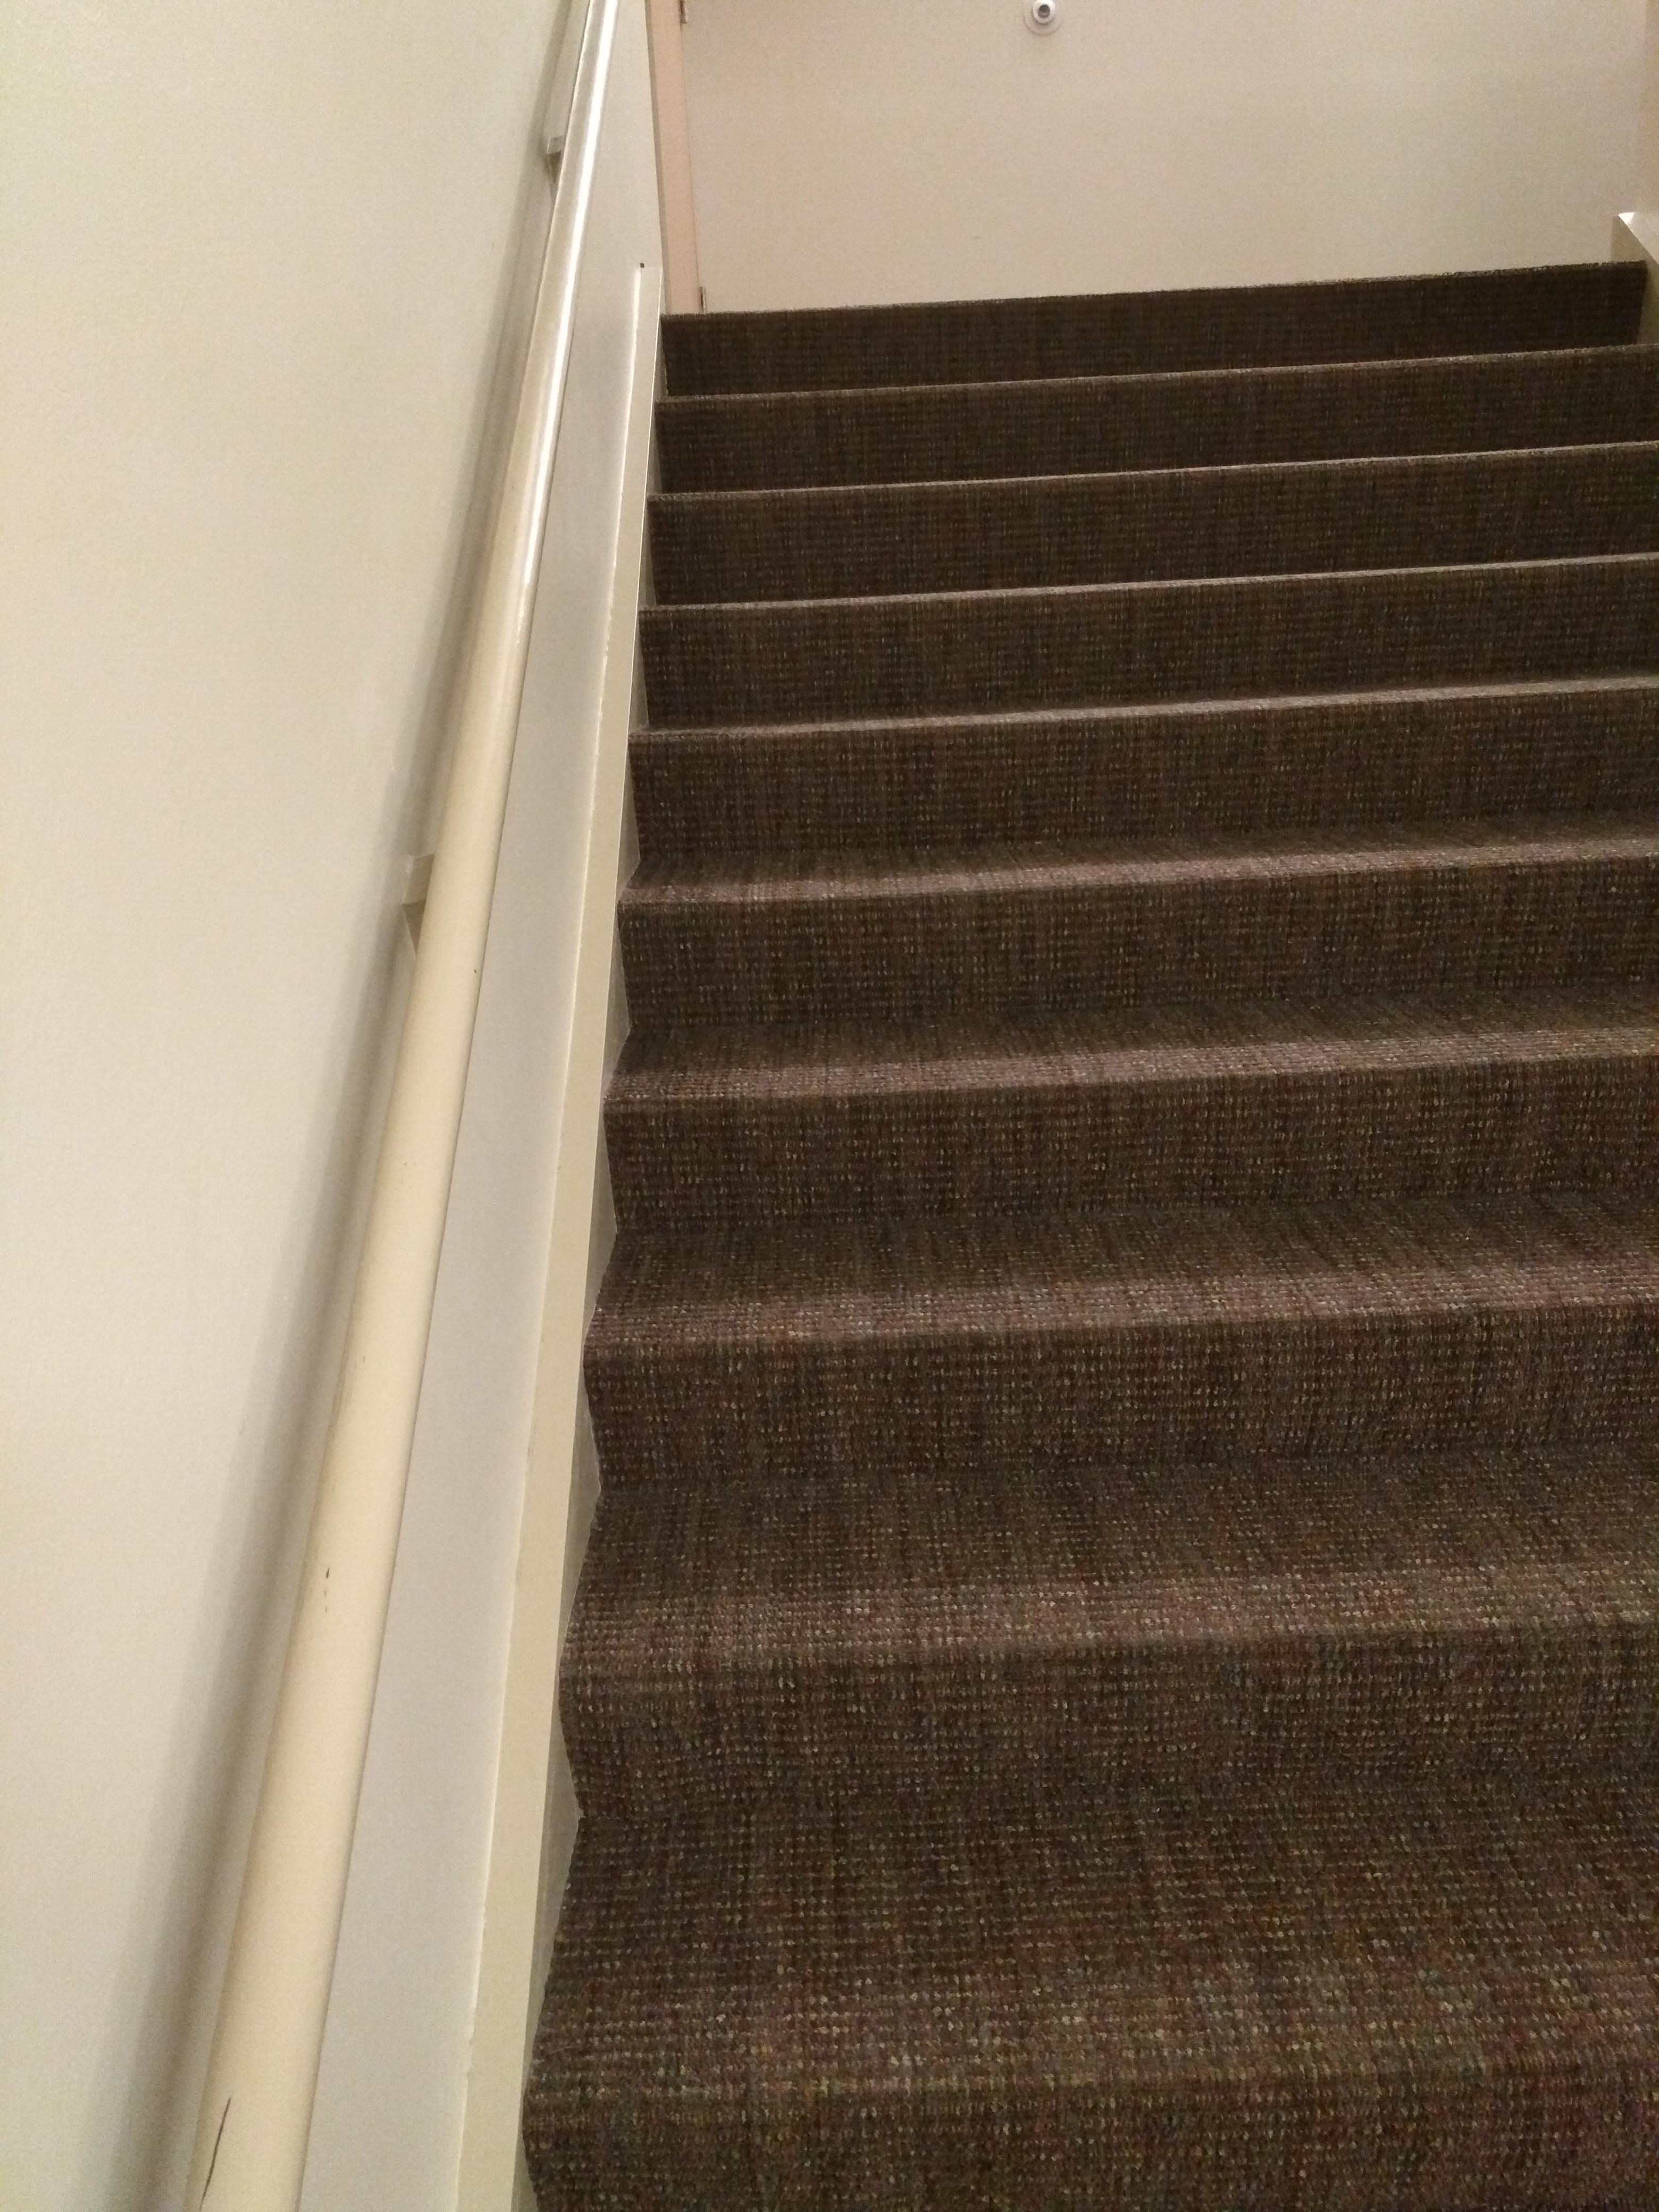stairs_up: (511, 251, 1659, 2212)
